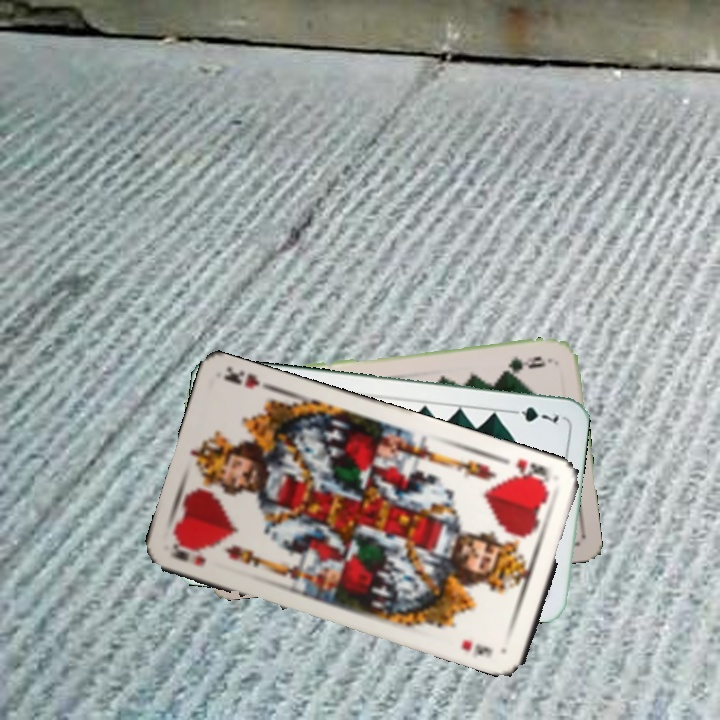G7: (504, 402, 561, 425)
G9: (499, 352, 554, 375)
HK: (509, 454, 553, 488), (167, 540, 208, 569)
